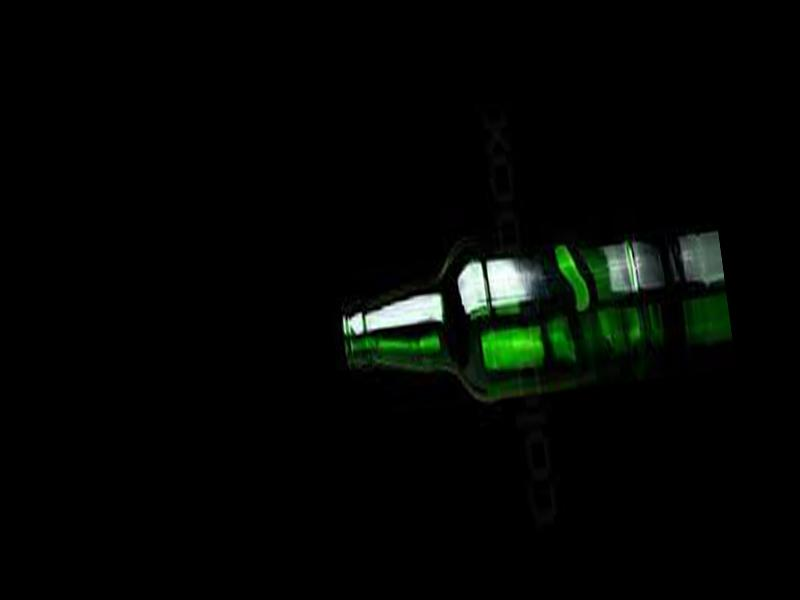Beer: (336, 239, 652, 421)
